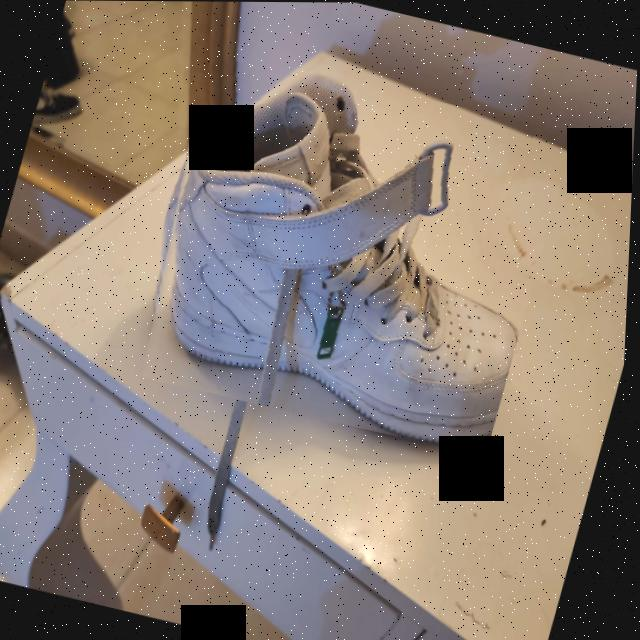shoe: (120, 45, 577, 459)
